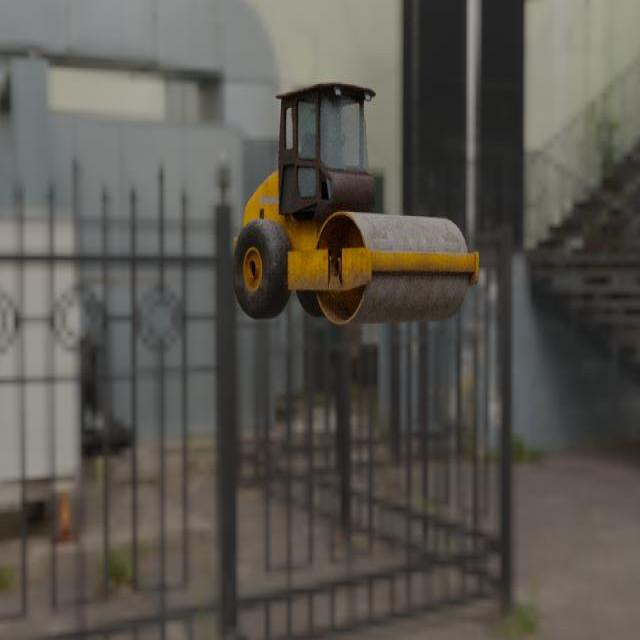Roller: (232, 81, 479, 324)
